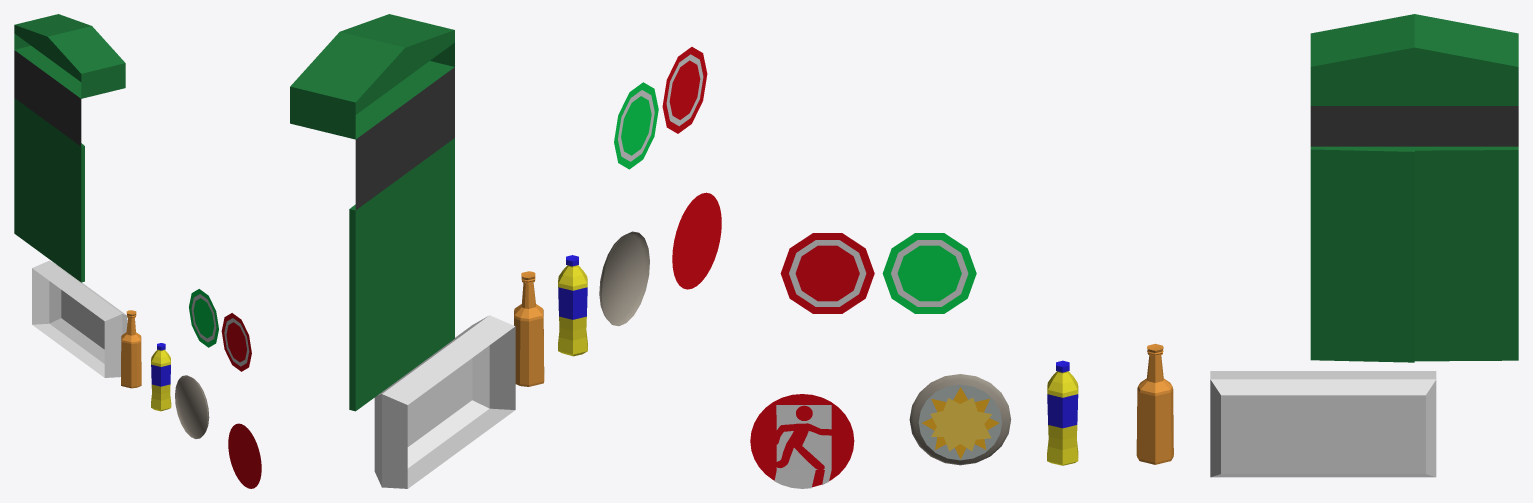
The model's file is UI+Pow.fbx.
3 renders of one model, left to right at view 1: azimuth 30°, elevation 25°; view 2: azimuth 150°, elevation 25°; view 3: azimuth 270°, elevation 25°, orthographic. The views are drawn at different scales.
Parts seen in each view (by area): view 1: Plane.001, Cube, Vert.002, Circle, Cylinder.001, Circle.003, Circle.002, Cylinder; view 2: Plane.001, Cube, Vert.002, Circle, Cylinder.001, Circle.002, Circle.003, Cylinder; view 3: Plane.001, Cube, Vert.002, Circle.003, Circle.002, Cylinder.001, Circle, Plane, Cylinder, Circle.001.
Boxes of the visible parts, x1,y1,x2,y2 form: Plane.001: (14,14,125,282); Cube: (32,260,127,377); Vert.002: (175,375,209,438); Circle: (228,423,261,488); Cylinder.001: (121,310,141,388); Circle.003: (189,289,218,347); Circle.002: (221,313,251,371); Cylinder: (151,343,171,411); Plane.001: (290,14,454,411); Cube: (374,315,515,488); Vert.002: (599,231,649,326); Circle: (672,192,721,289); Cylinder.001: (514,271,544,386); Circle.002: (662,47,707,133); Circle.003: (614,82,658,169); Cylinder: (558,255,587,356); Plane.001: (1310,14,1518,362); Cube: (1210,371,1436,477); Vert.002: (909,374,1011,465); Circle.003: (882,233,976,313); Circle.002: (780,233,874,313); Cylinder.001: (1136,343,1173,464); Circle: (750,394,854,487); Plane: (774,405,831,488); Cylinder: (1047,360,1078,465); Circle.001: (771,405,832,470).
Size of the model in its own units: 208 by 1112 by 1633.
